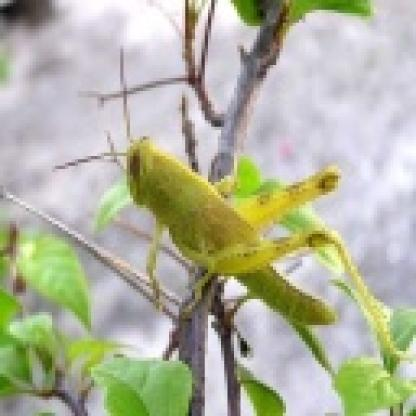grasshopper: (117, 132, 400, 351)
